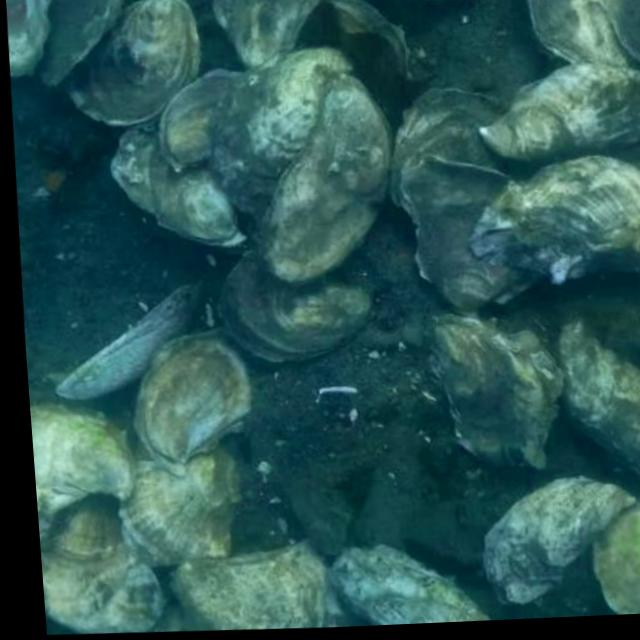Oyster-Closed: (157, 67, 249, 172), (328, 0, 435, 80)
Oyster-Indeterminate: (259, 71, 393, 283), (208, 45, 351, 221), (399, 156, 542, 309), (473, 156, 640, 283), (429, 314, 563, 467), (482, 475, 634, 603), (133, 326, 258, 473), (59, 280, 206, 400), (111, 116, 245, 247), (63, 0, 200, 126), (219, 251, 370, 362), (481, 62, 640, 162), (120, 437, 241, 568), (174, 537, 328, 631), (389, 89, 505, 207), (558, 317, 640, 475), (332, 545, 491, 625), (30, 402, 136, 511), (41, 543, 166, 634), (528, 0, 640, 74), (214, 0, 319, 69), (38, 0, 122, 84), (593, 498, 640, 615), (48, 496, 123, 558), (6, 0, 51, 75), (610, 0, 640, 61)
